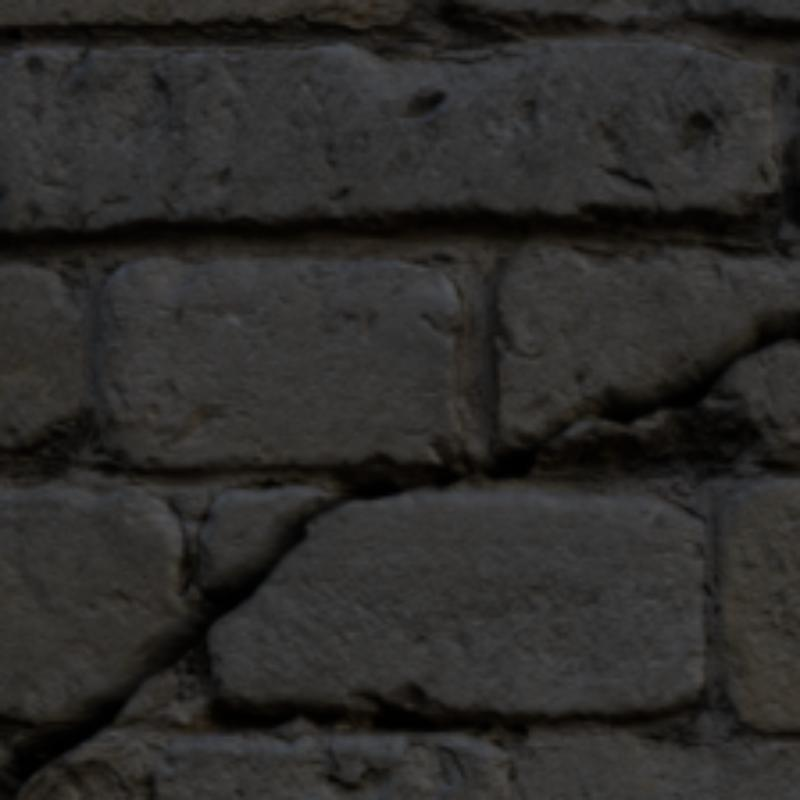crack: (0, 321, 796, 793)
